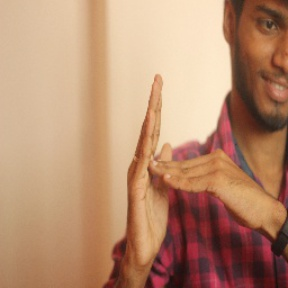Z: (117, 71, 264, 255)
